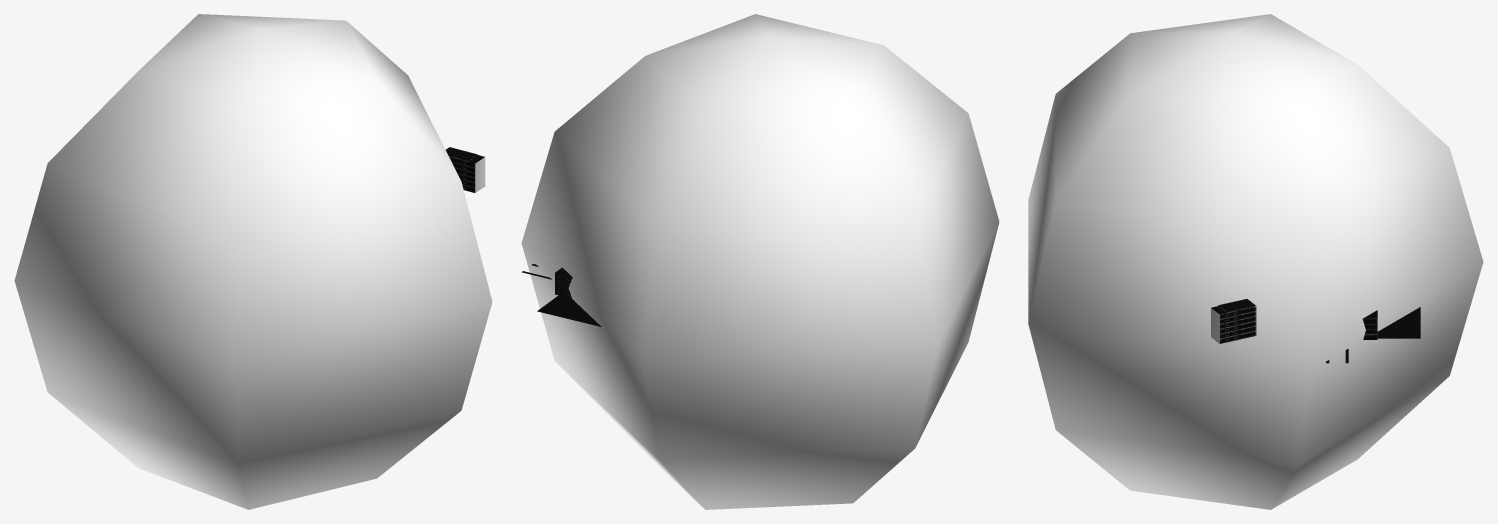
Rendered from seinecourt1.glb.
The picture shows the model from 3 angles, left to right: view 1: azimuth 30°, elevation 25°; view 2: azimuth 150°, elevation 25°; view 3: azimuth 270°, elevation 25°; orthographic projection.
Visible parts, largest first — view 1: sky, commie1; view 2: sky, Plane.014; view 3: sky, commie1, Plane.014.
Boxes of the visible parts, bbox=[...] form: sky: bbox=[14, 14, 492, 509]; commie1: bbox=[449, 155, 485, 192]; sky: bbox=[521, 14, 999, 509]; Plane.014: bbox=[537, 295, 601, 326]; sky: bbox=[1028, 14, 1483, 509]; commie1: bbox=[1211, 306, 1256, 343]; Plane.014: bbox=[1377, 307, 1420, 338].
Bounding box in the file's own units: 301 × 310 × 280.
Materials: 440 (439 with a texture image).
